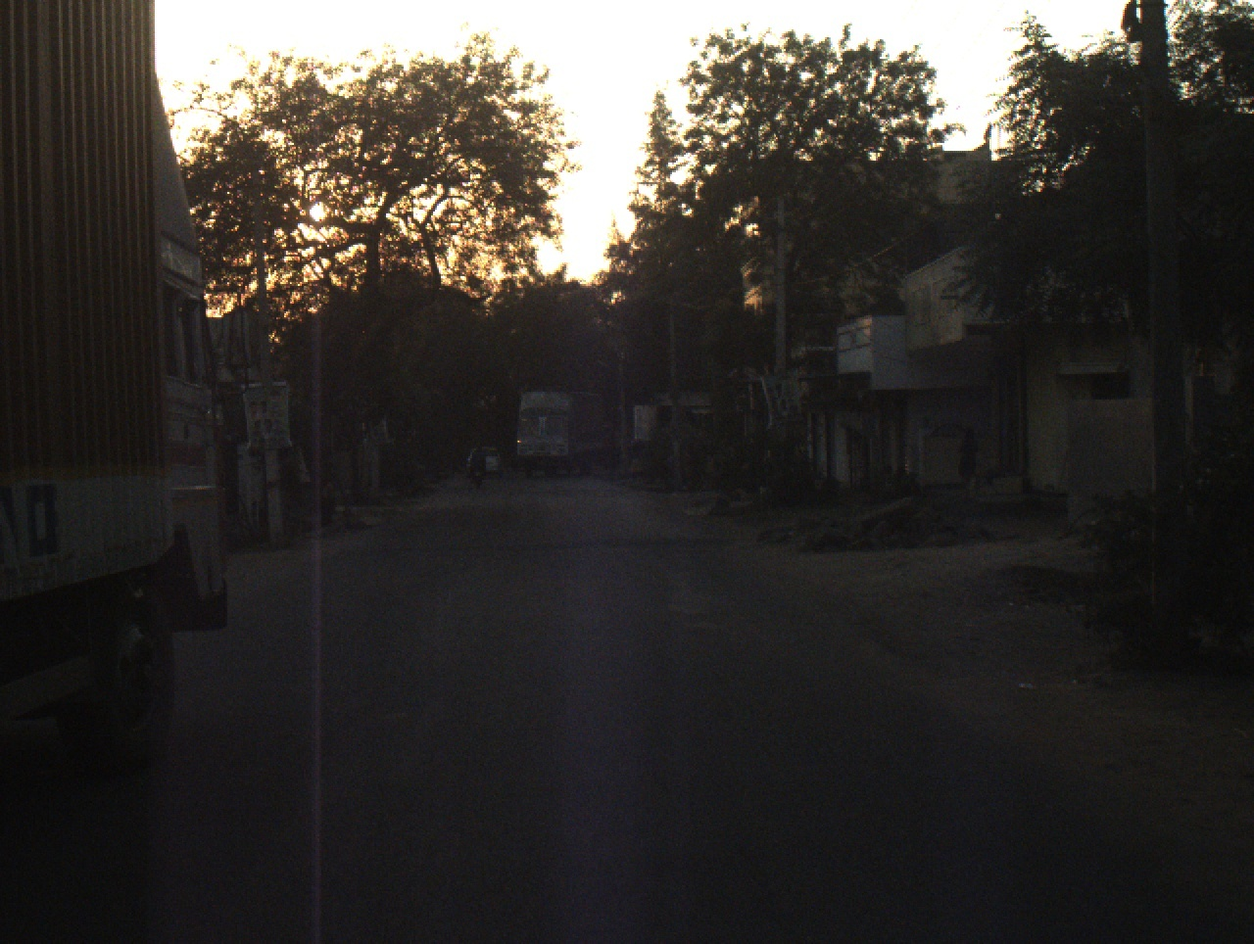car: (465, 448, 499, 485)
motorcycle: (465, 461, 485, 481)
rider: (465, 446, 487, 474)
truck: (3, 1, 258, 786), (515, 385, 611, 476)
